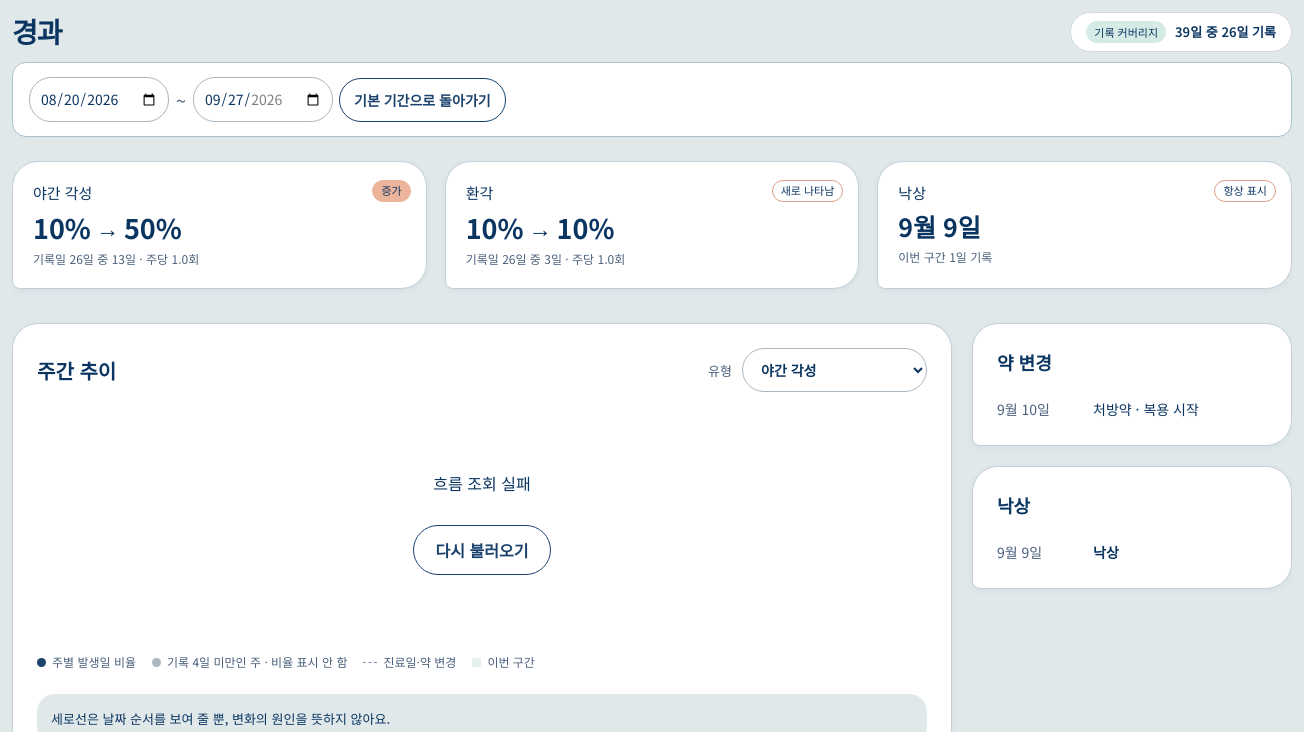
it: 실패 후 다시 조회하고 유형 변경 중 늦게 도착한 이전 응답을 버린다
Expected: the message "흐름 조회 실패 다시 불러오기" is shown, [413,471,551,575]
Click the button "다시 불러오기": (482, 550) [413,525,551,575]
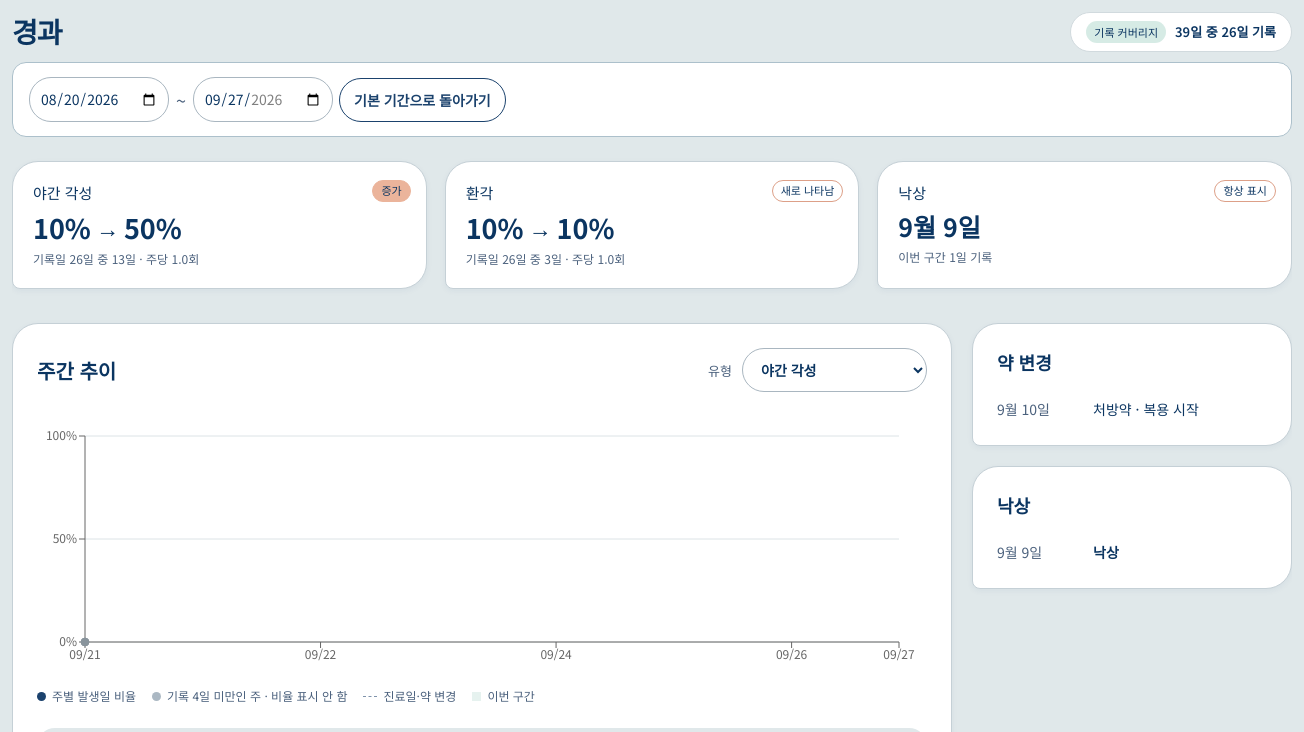
Expected: the picture named "야간 각성 주간 추이" is shown, [37,414,927,674]
Select "불안" in the dropdown named "추이 유형": (834, 370) [742,348,927,392]
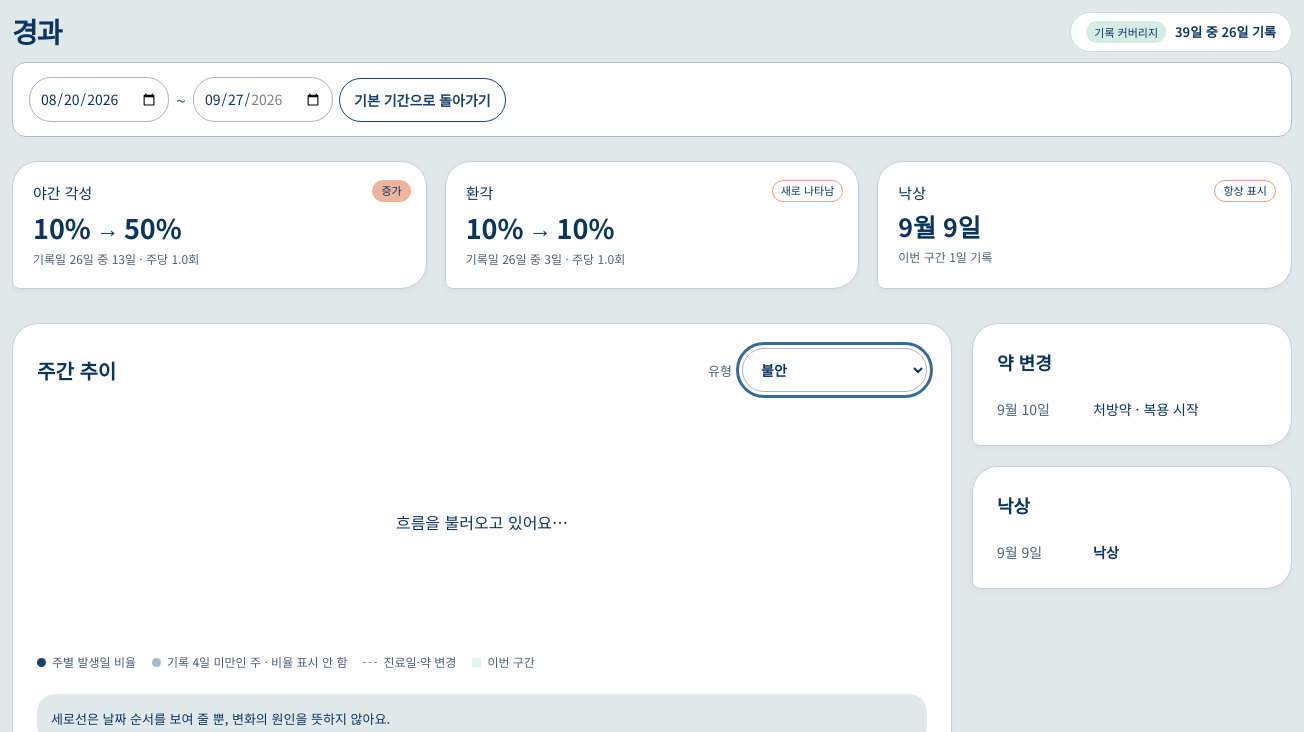
Select "낙상" in the dropdown named "추이 유형": (834, 370) [742,348,927,392]
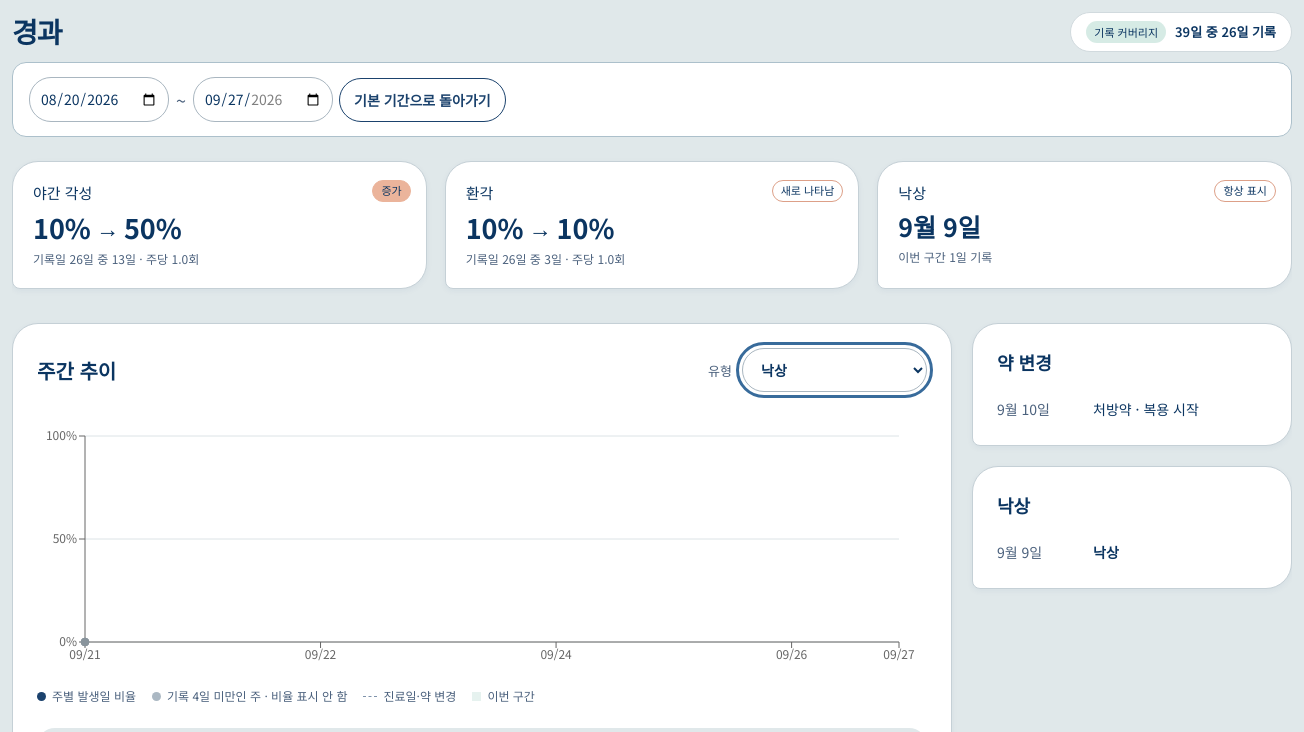
Expected: the picture named "낙상 주간 추이" is shown, [37,414,927,674]
